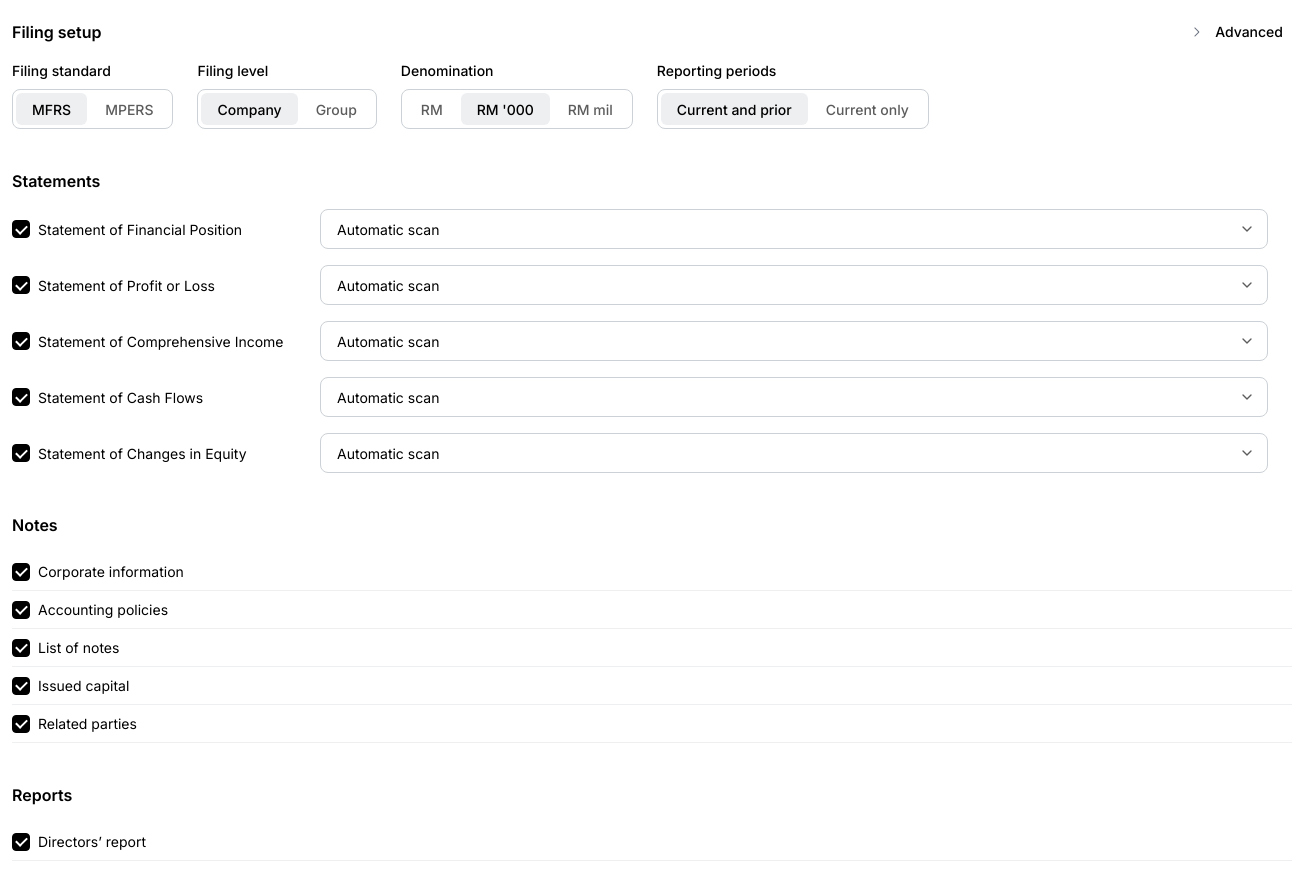
Scenario: PreRunPanel › empty scout preserves manually-picked variants (peer-review finding #2)
The width and height of the screenshot is (1304, 871).
Click the button with test id "advanced-toggle": (1235, 32) [1178,12,1292,52]
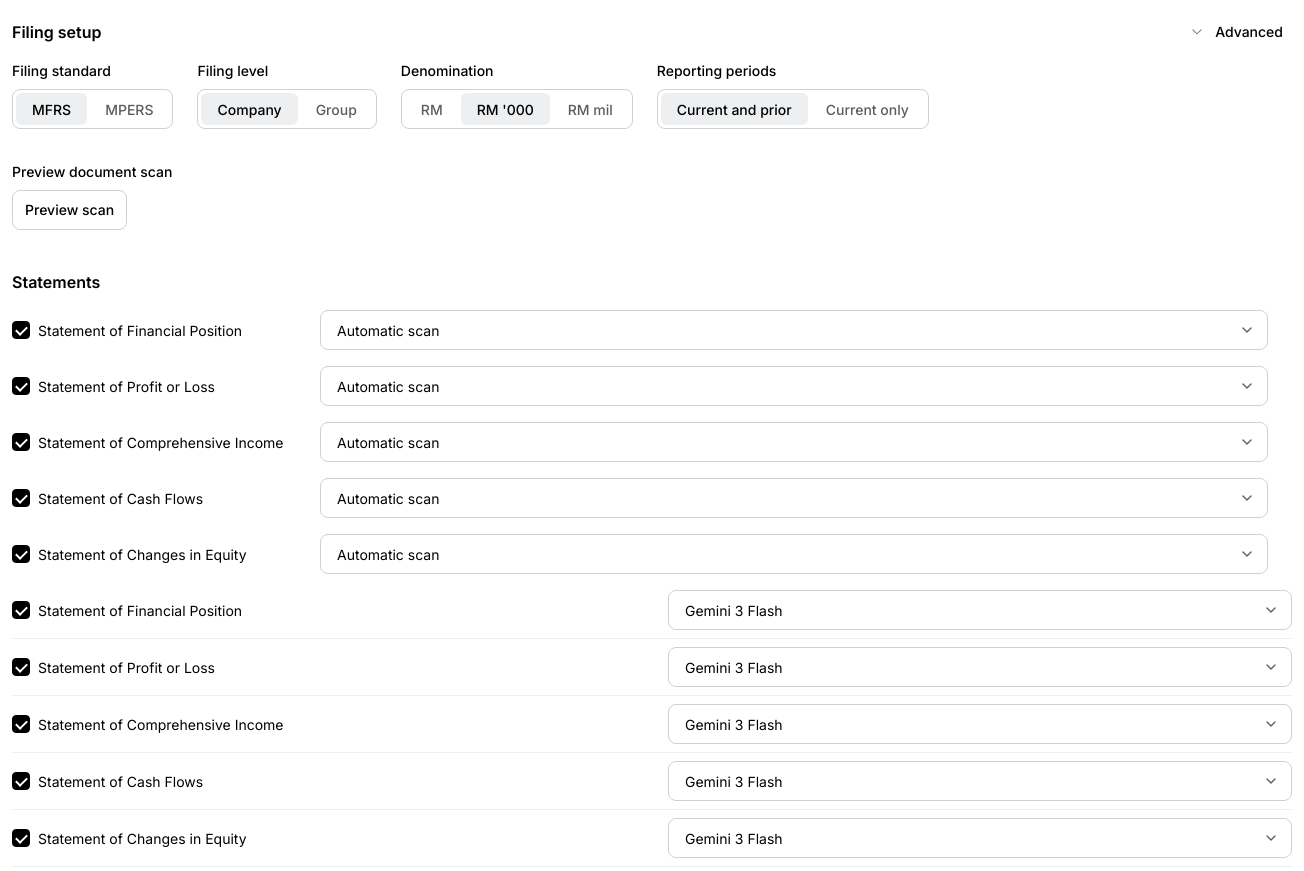
Result: the button with aria-label "auto-detect" is shown at [12,190,127,230]
Select "Current / Non-current" in the dropdown named "Format for SOFP — Statement of Financial Position": (794, 330) [320,310,1268,350]
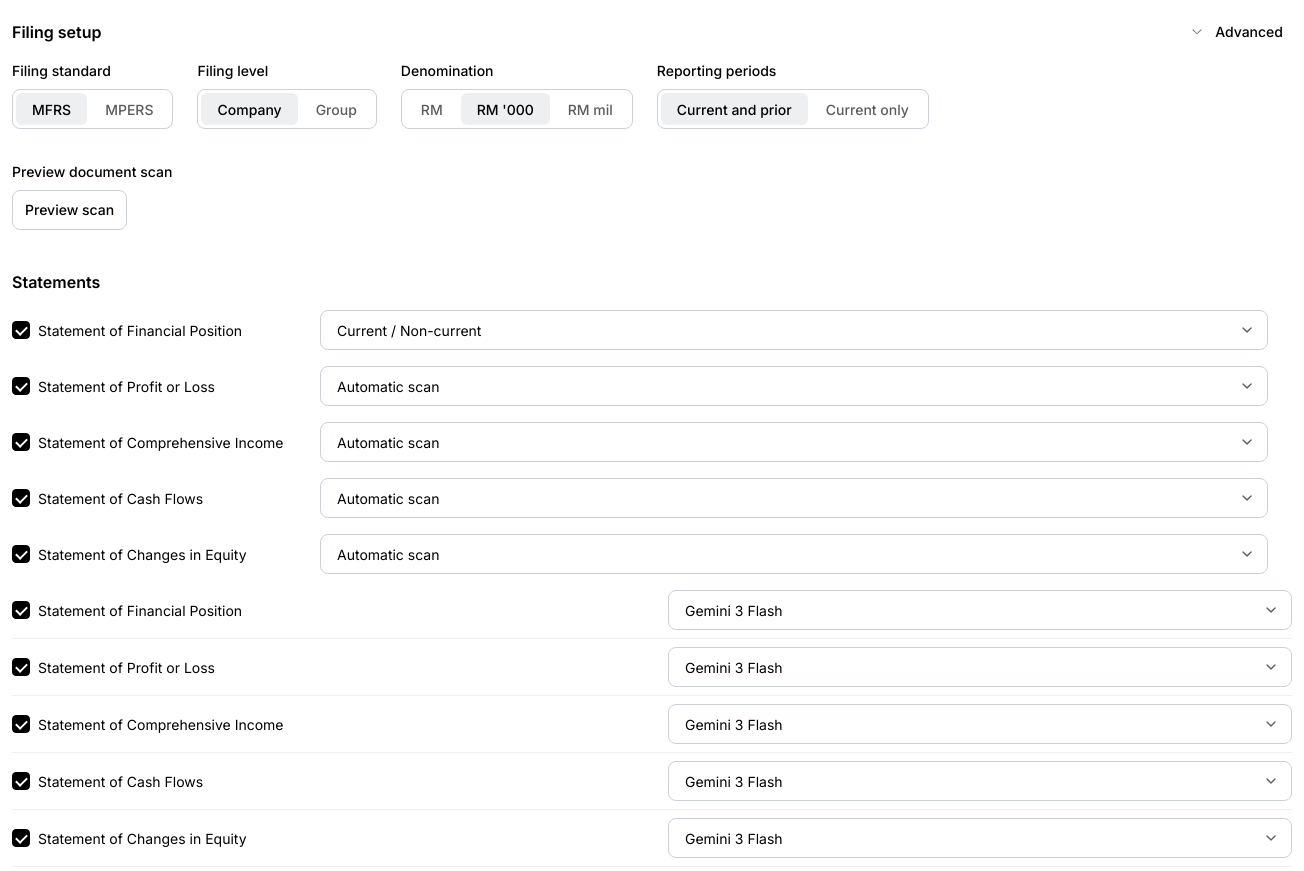
Click the button with aria-label "auto-detect": (70, 210) [12,190,127,230]
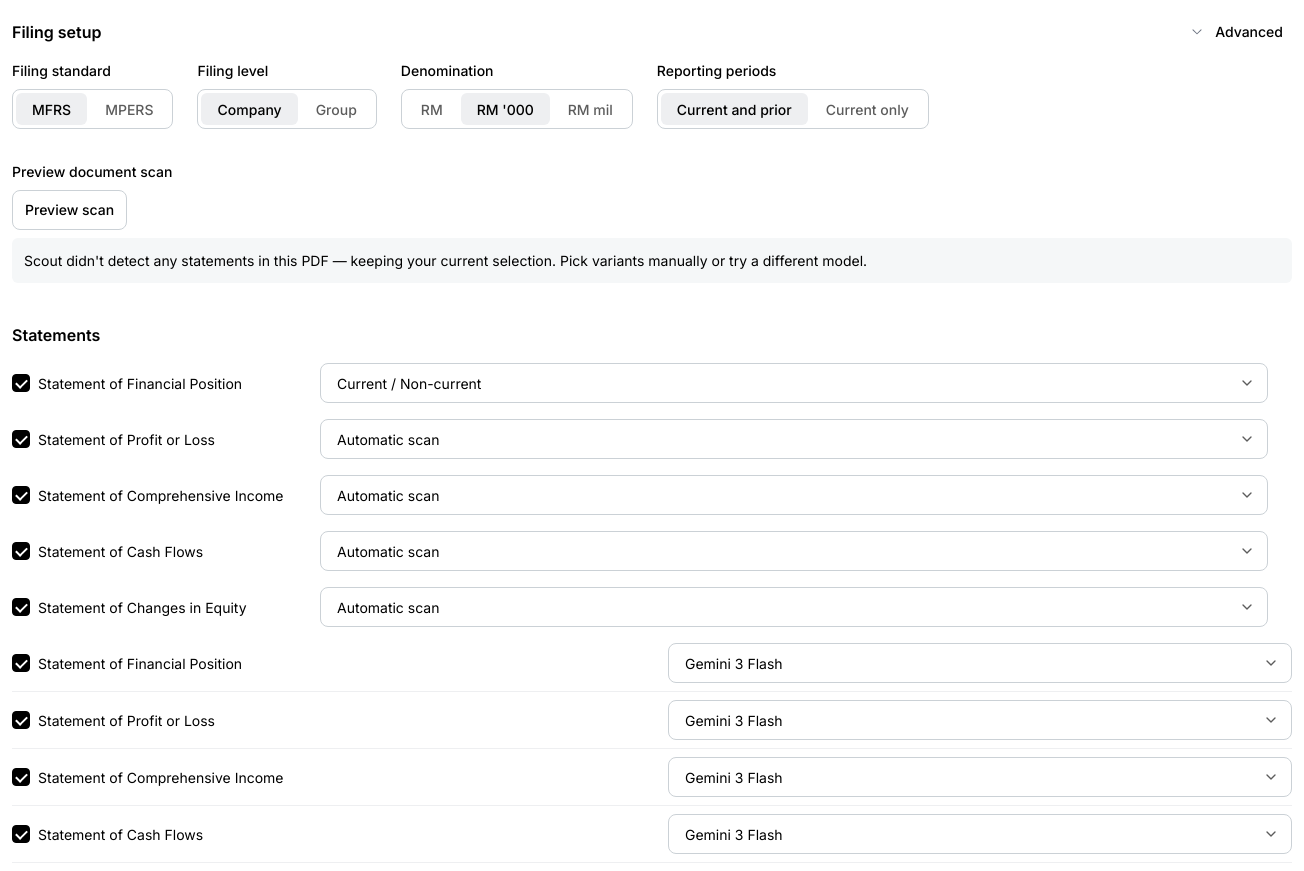
Result: the text "didn't detect any statements" is shown at [24,252,867,269]
